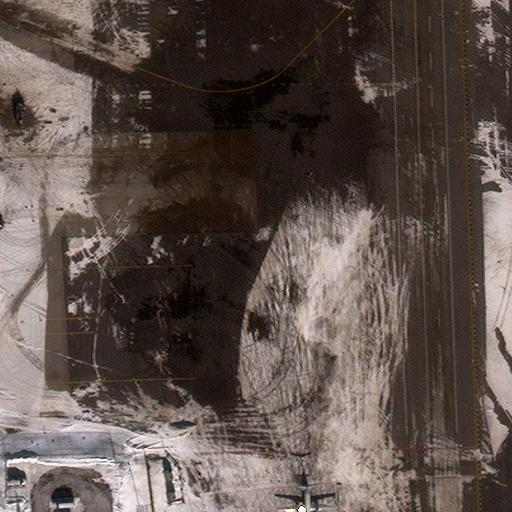Medium Civil Transport: (276, 485, 337, 511)
